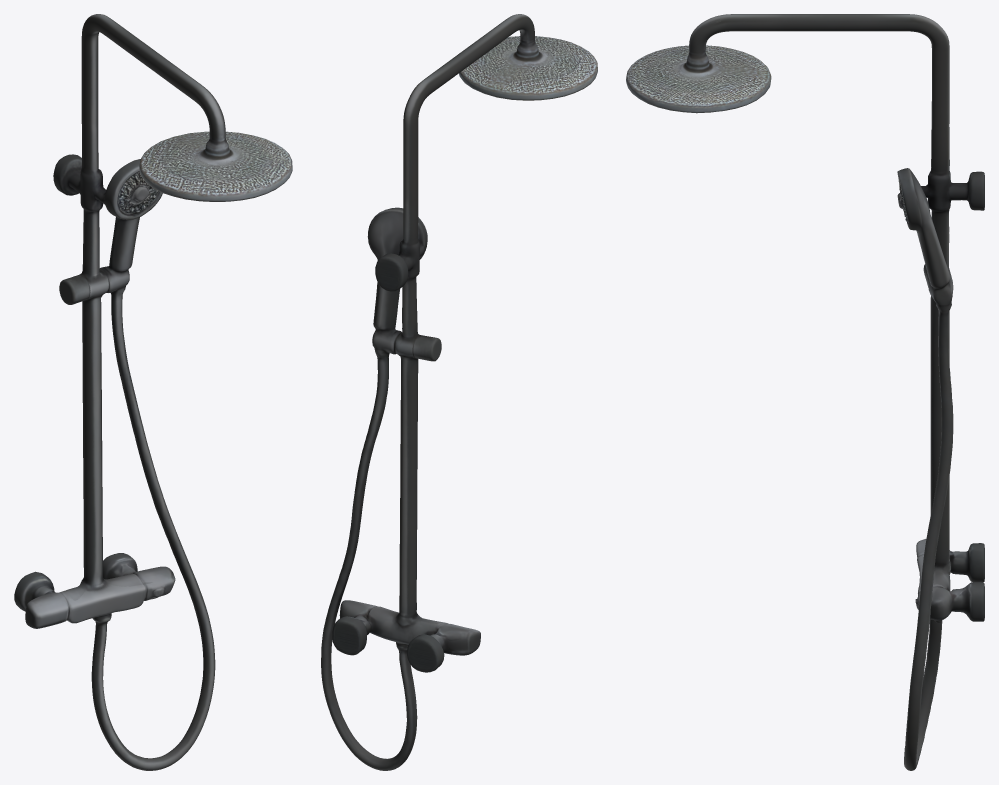
File: shower-black-v2.glb
The picture shows the model from 3 angles, left to right: view 1: azimuth 30°, elevation 25°; view 2: azimuth 150°, elevation 25°; view 3: azimuth 270°, elevation 25°; orthographic projection. The views are drawn at different scales.
Visible parts, largest first — view 1: model; view 2: model; view 3: model.
Boxes of the visible parts, <box> form: model: <box>14,14,292,770</box>; model: <box>321,14,597,770</box>; model: <box>626,14,984,770</box>.
Bounding box in the file's own units: 0.4624 × 1.9 × 0.8481.
1 material, 1 textured.
